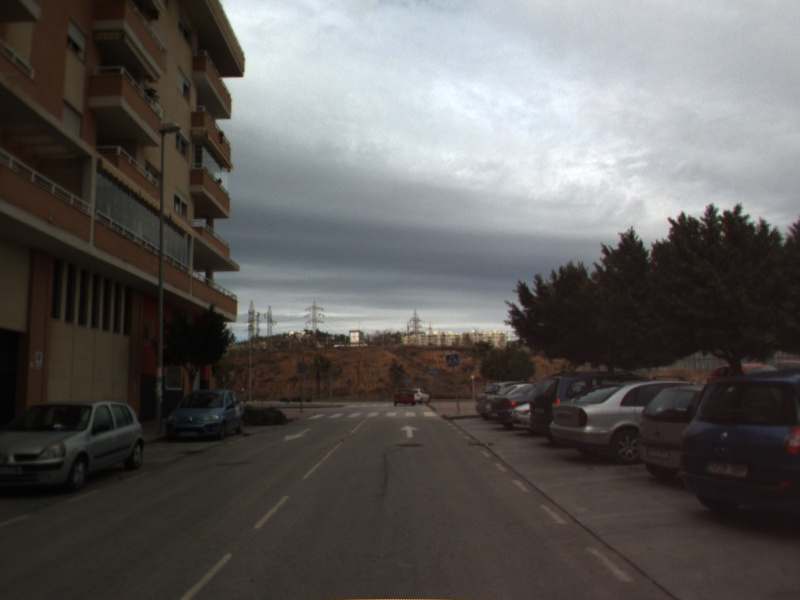STRAIGHT: (398, 423, 422, 440)
